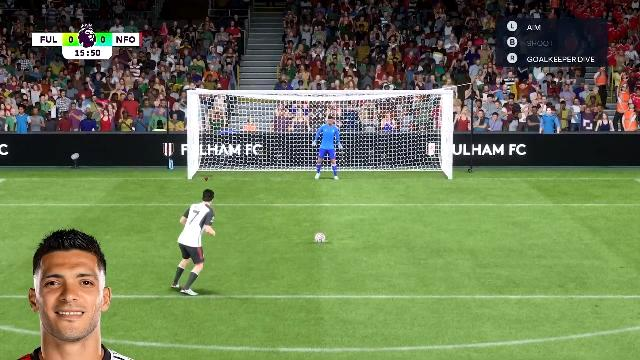bottom-left: (194, 138, 292, 180)
bottom-right: (369, 138, 448, 182)
center-down: (295, 138, 369, 182)
center-up: (294, 94, 368, 138)
circle: (312, 240, 328, 242)
football: (314, 232, 326, 242)
goalkeeper: (312, 115, 348, 182)
player: (172, 187, 218, 294)
top-left: (190, 94, 292, 136)
top-right: (369, 95, 449, 137)
